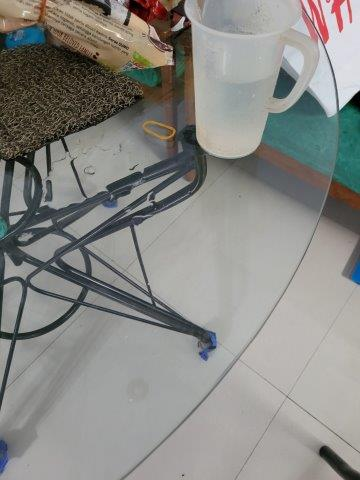karet: (142, 122, 175, 141)
